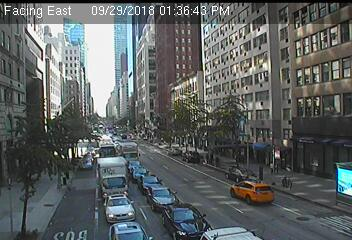car: (162, 204, 212, 240), (96, 157, 129, 201), (231, 180, 275, 207), (146, 186, 179, 213), (103, 194, 135, 221), (108, 221, 151, 240), (117, 141, 140, 166), (225, 166, 257, 183), (137, 174, 162, 195), (97, 141, 117, 167), (130, 166, 150, 182), (124, 159, 142, 174), (181, 151, 200, 165), (166, 147, 181, 157), (79, 158, 91, 170), (82, 152, 94, 164)
